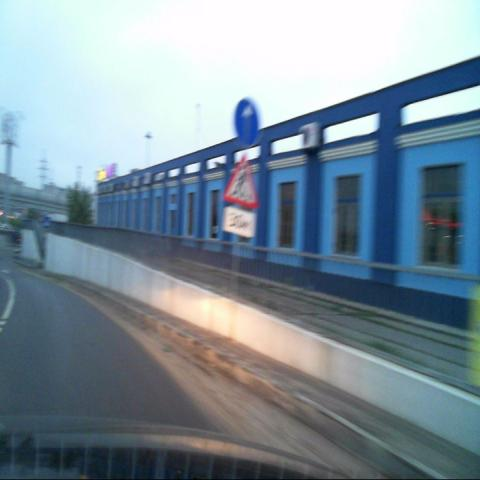1_22: (225, 152, 258, 208)
8_1_1: (224, 206, 256, 238)
